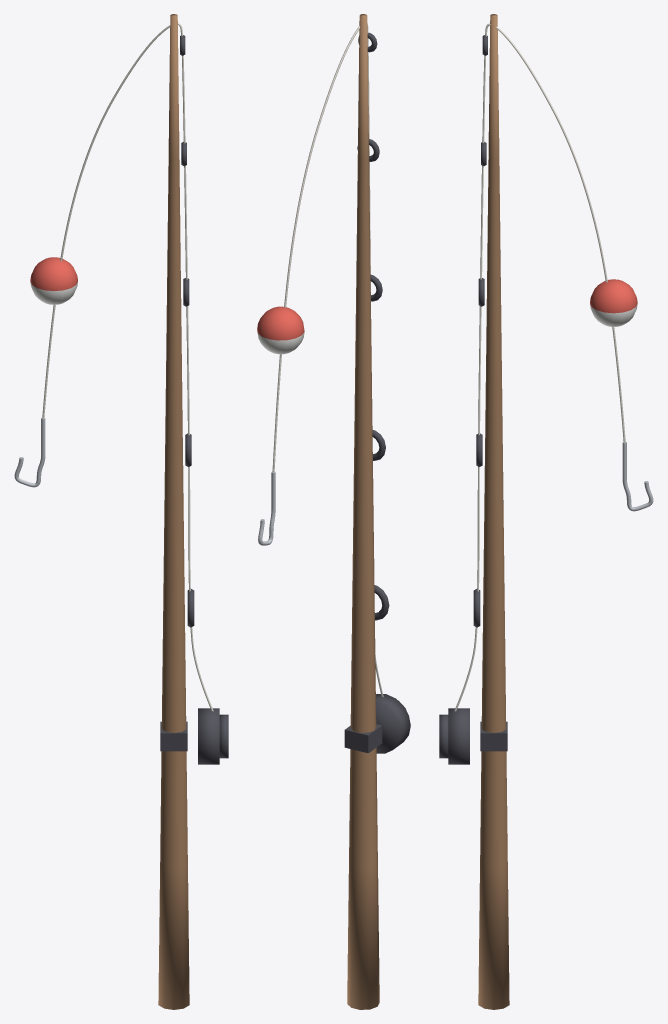
The model's file is FishRoad.glb.
3 views of the same model, side by side, from view 1: azimuth 90°, elevation 25°; view 2: azimuth 150°, elevation 25°; view 3: azimuth 270°, elevation 25° (orthographic).
Visible parts, largest first — view 1: FishRoad; view 2: FishRoad; view 3: FishRoad.
Boxes of the visible parts, <box> form: FishRoad: <box>14,14,228,1009</box>; FishRoad: <box>257,14,410,1009</box>; FishRoad: <box>439,14,653,1009</box>.
Bounding box in the file's own units: 0.36 × 5 × 0.9822.
